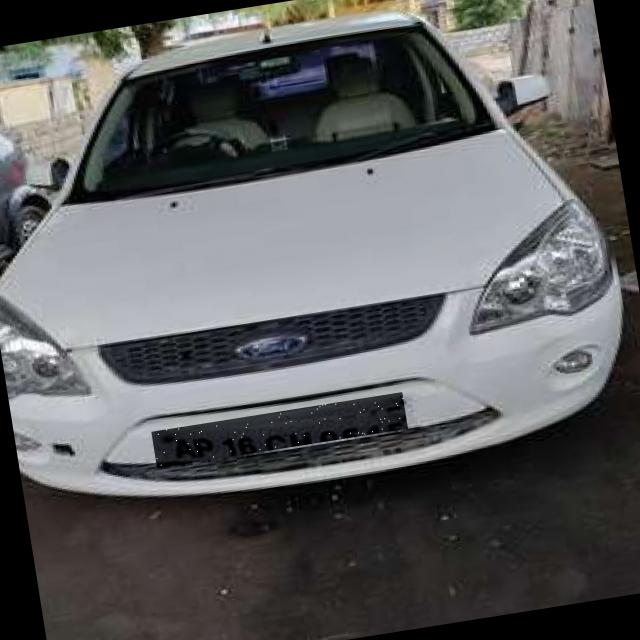Plate: (152, 393, 409, 469)
